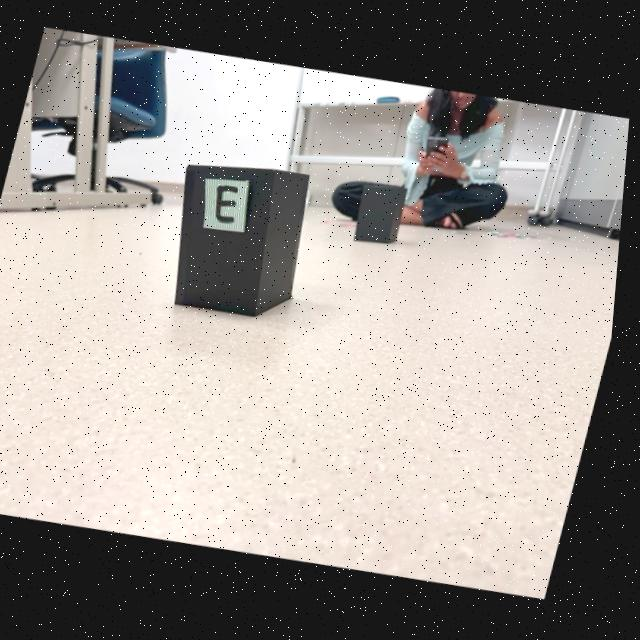E: (219, 187, 241, 224)
